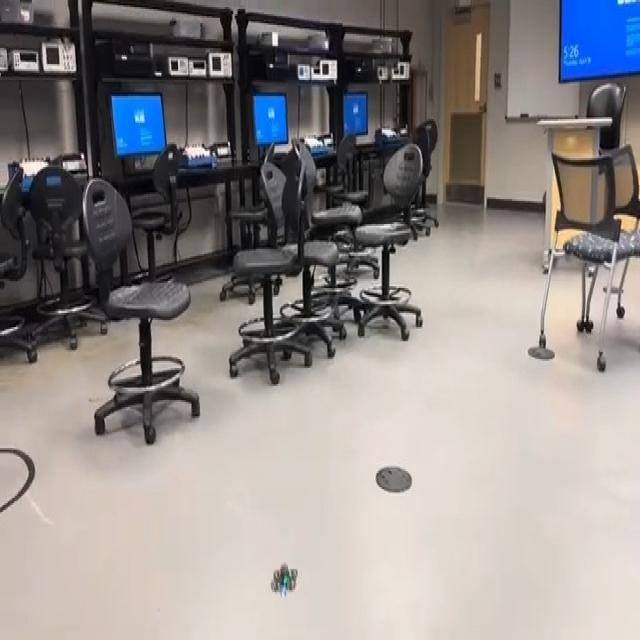drone: (262, 548, 304, 605)
